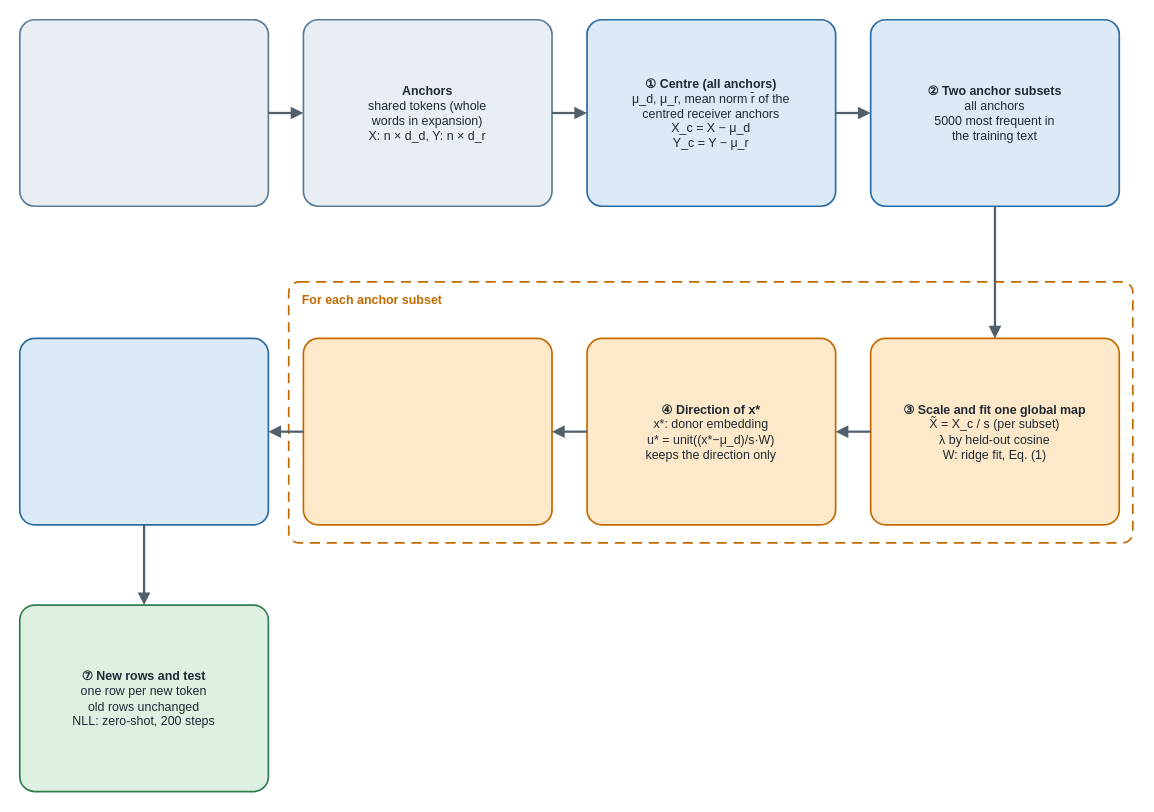
The diagram is 1154 pixels wide and 812 high, and some of its shapes have lost their labels. The shapes that lost their labels are listed below. From the top down, each one's centre as x and y in pixels, then its label:
point (143, 112): Models Donor D: embeddings E_d Receiver R: embeddings E_r
point (143, 431): ⑥ Select variant subset with the lower training objective is kept (ridge[sel])
point (427, 431): ⑤ Calibrated length ŷ* = μ_r + c·r̄·u* c from a grid, by NLL on training text
